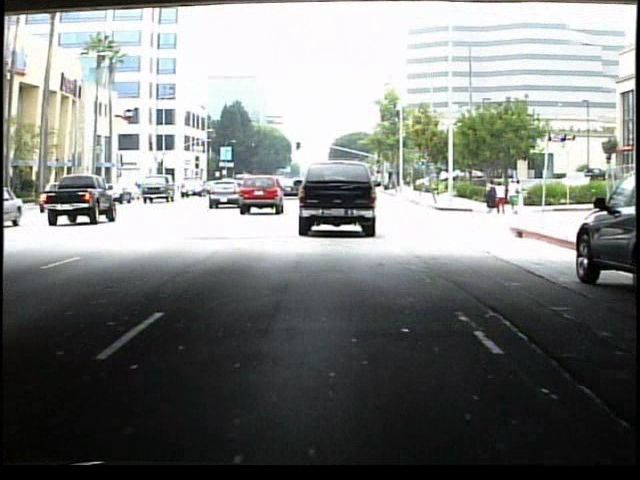person: (509, 177, 524, 216), (483, 179, 498, 216), (496, 180, 509, 216)
